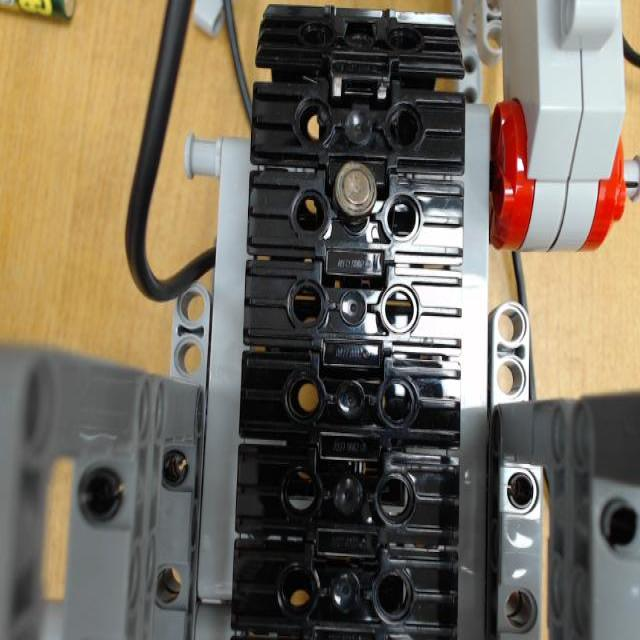COIN: (331, 159, 378, 220)
